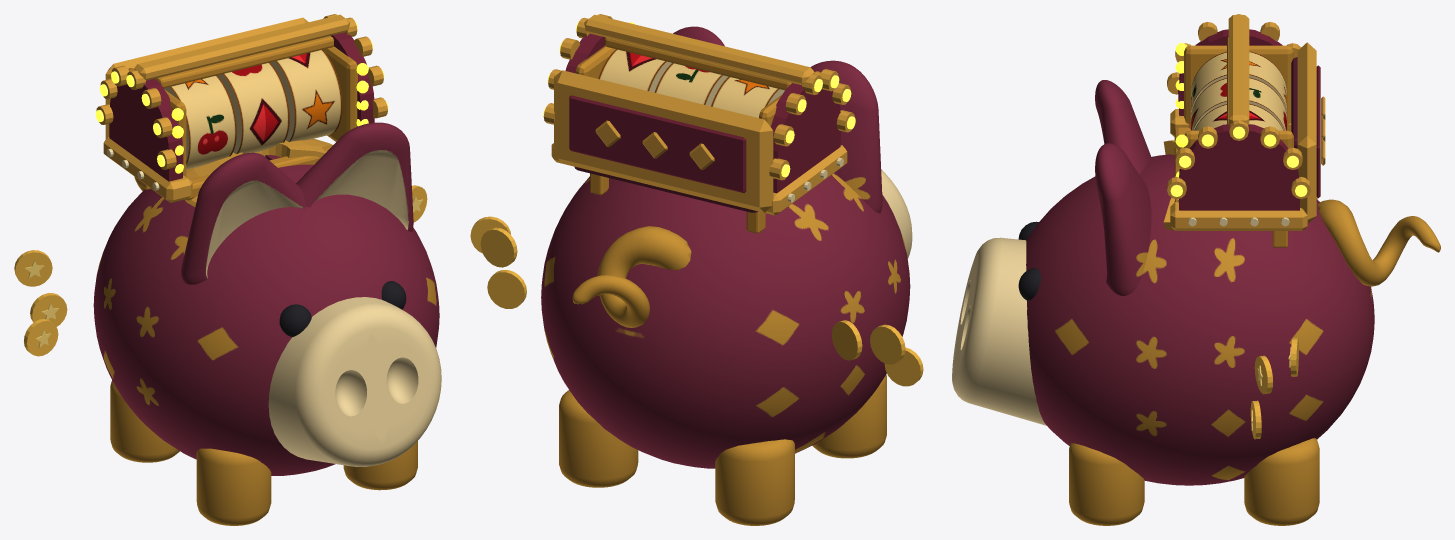
File: jackpot-arcade-v2-complete.fbx
The picture shows the model from 3 angles, left to right: view 1: azimuth 30°, elevation 25°; view 2: azimuth 150°, elevation 25°; view 3: azimuth 270°, elevation 25°; orthographic projection. The views are drawn at different scales.
Visible parts, largest first — view 1: Body, Snout, Ears, Legs, SymbolReel_2, SymbolReel_1, SymbolReel_0, JackpotArchCase_-1, JackpotCrestRail, UpperRail, JackpotBasePlinth_-1, ReelSide_0.585 (+9 smaller); view 2: Body, Legs, JackpotBackShield, JackpotBackEnamel, Tail, Ears, JackpotCrestRail, JackpotArchCase_-1, SymbolReel_2, SymbolReel_1, SymbolReel_0, UpperRail (+11 smaller); view 3: Body, Snout, Legs, Ears, JackpotArchCase_1, Tail, JackpotBackShield, JackpotBasePlinth_1, JackpotCrestRail, ReelSide_-0.585, SymbolReel_0, SymbolReel_1 (+6 smaller).
Part boxes in pixels (<box>): Body: <box>93,155,439,475</box>; Snout: <box>268,297,441,466</box>; Ears: <box>181,122,413,284</box>; Legs: <box>110,380,417,525</box>; SymbolReel_2: <box>270,49,342,141</box>; SymbolReel_1: <box>217,62,289,153</box>; SymbolReel_0: <box>164,75,236,169</box>; JackpotArchCase_-1: <box>109,78,183,181</box>; JackpotCrestRail: <box>134,14,349,80</box>; UpperRail: <box>155,36,333,88</box>; JackpotBasePlinth_-1: <box>103,137,192,202</box>; ReelSide_0.585: <box>323,46,357,141</box>; Body: <box>541,173,910,468</box>; Legs: <box>559,374,886,525</box>; JackpotBackShield: <box>554,70,773,212</box>; JackpotBackEnamel: <box>569,95,746,192</box>; Tail: <box>572,226,691,327</box>; Ears: <box>673,26,882,213</box>; JackpotCrestRail: <box>584,14,814,85</box>; JackpotArchCase_-1: <box>770,83,840,193</box>; SymbolReel_2: <box>598,49,671,92</box>; SymbolReel_1: <box>654,63,728,106</box>; SymbolReel_0: <box>711,77,784,117</box>; UpperRail: <box>605,37,791,90</box>; Body: <box>1026,154,1374,485</box>; Snout: <box>952,237,1046,425</box>; Legs: <box>1069,438,1319,525</box>; Ears: <box>1095,80,1151,295</box>; JackpotArchCase_1: <box>1178,124,1299,210</box>; Tail: <box>1317,199,1440,286</box>; JackpotBackShield: <box>1297,42,1316,223</box>; JackpotBasePlinth_1: <box>1170,202,1307,230</box>; JackpotCrestRail: <box>1228,15,1249,125</box>; ReelSide_-0.585: <box>1184,45,1293,130</box>; SymbolReel_0: <box>1191,51,1286,116</box>; SymbolReel_1: <box>1191,77,1286,130</box>.
Size of the model in its own units: 1686 by 1593 by 1708.
Materials: 16 (5 with a texture image).
